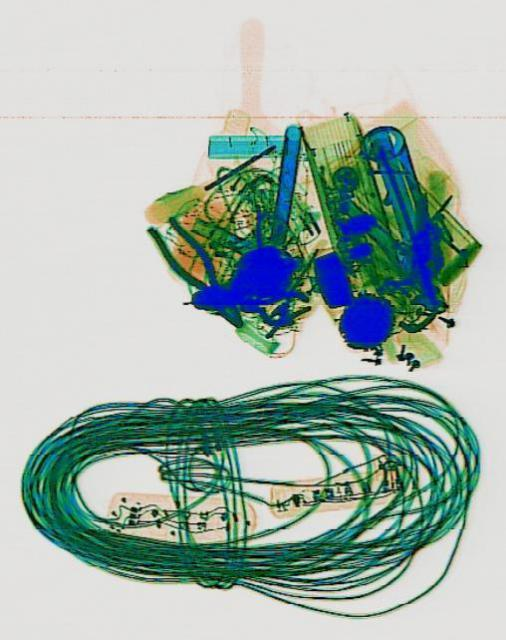Pliers: (140, 204, 253, 340)
